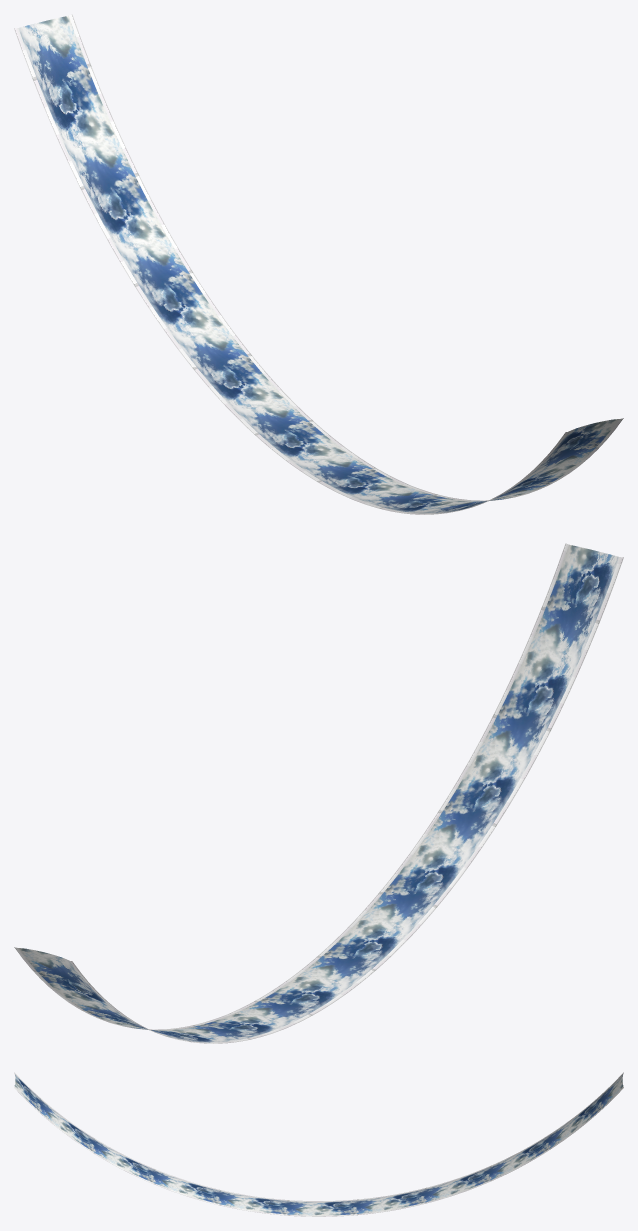
File: PresidiumRing_RoofStrip01.FBX
3 views of the same model, one above another, from view 1: azimuth 30°, elevation 25°; view 2: azimuth 150°, elevation 25°; view 3: azimuth 270°, elevation 25° (orthographic). The views are drawn at different scales.
Visible parts, largest first — view 1: PresidiumRing_RoofStrip01; view 2: PresidiumRing_RoofStrip01; view 3: PresidiumRing_RoofStrip01.
Part boxes in pixels (x1,y1,x2,y2): PresidiumRing_RoofStrip01: (14,14,623,514); PresidiumRing_RoofStrip01: (14,543,623,1043); PresidiumRing_RoofStrip01: (14,1072,623,1216).
Size of the model in its own units: 300 by 1152 by 4914.
